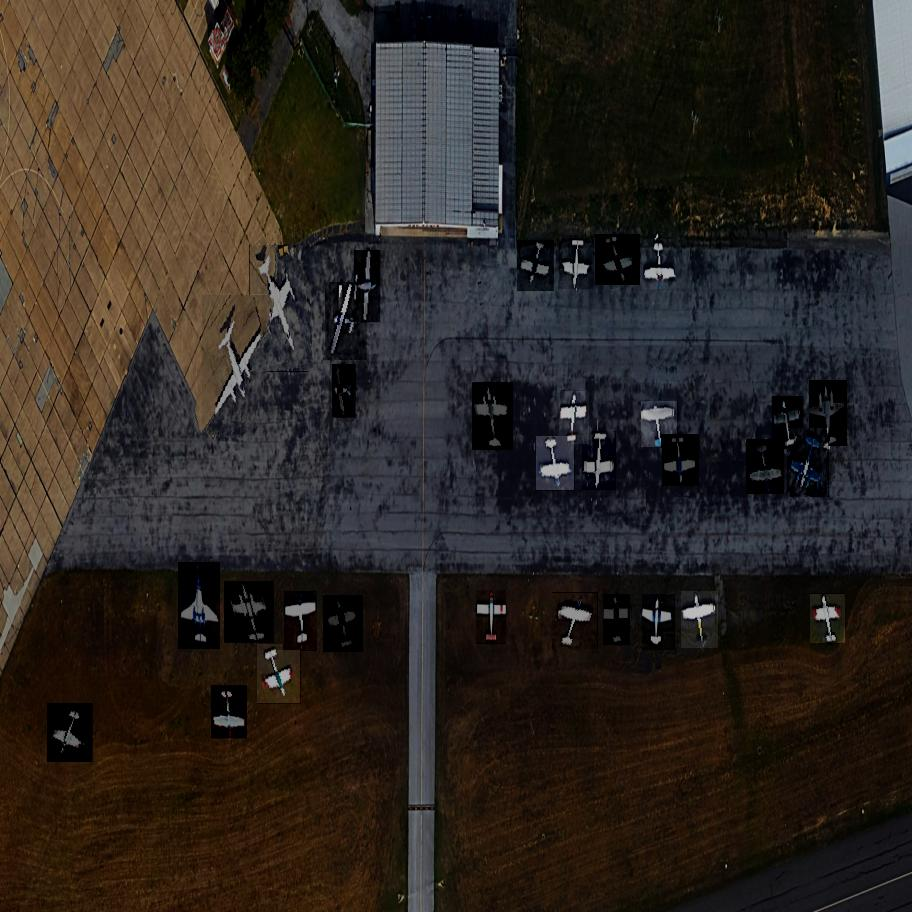plane: (180, 294, 287, 436), (245, 245, 315, 372), (224, 573, 275, 650), (178, 561, 220, 650), (325, 282, 370, 362), (786, 428, 833, 497), (472, 380, 513, 454), (46, 703, 94, 763), (255, 644, 303, 704), (553, 593, 599, 652), (596, 230, 641, 289), (810, 380, 849, 447), (323, 595, 364, 653), (682, 591, 721, 649), (745, 439, 786, 494), (536, 435, 574, 490), (211, 683, 247, 740), (583, 431, 617, 491), (284, 592, 318, 651), (810, 592, 846, 647), (517, 240, 555, 291), (663, 435, 700, 487), (641, 400, 679, 450), (355, 250, 381, 323), (642, 238, 676, 293), (559, 239, 595, 290), (643, 594, 675, 650), (772, 396, 805, 449), (559, 390, 589, 445), (476, 591, 506, 643), (333, 363, 357, 419), (603, 594, 629, 645)
